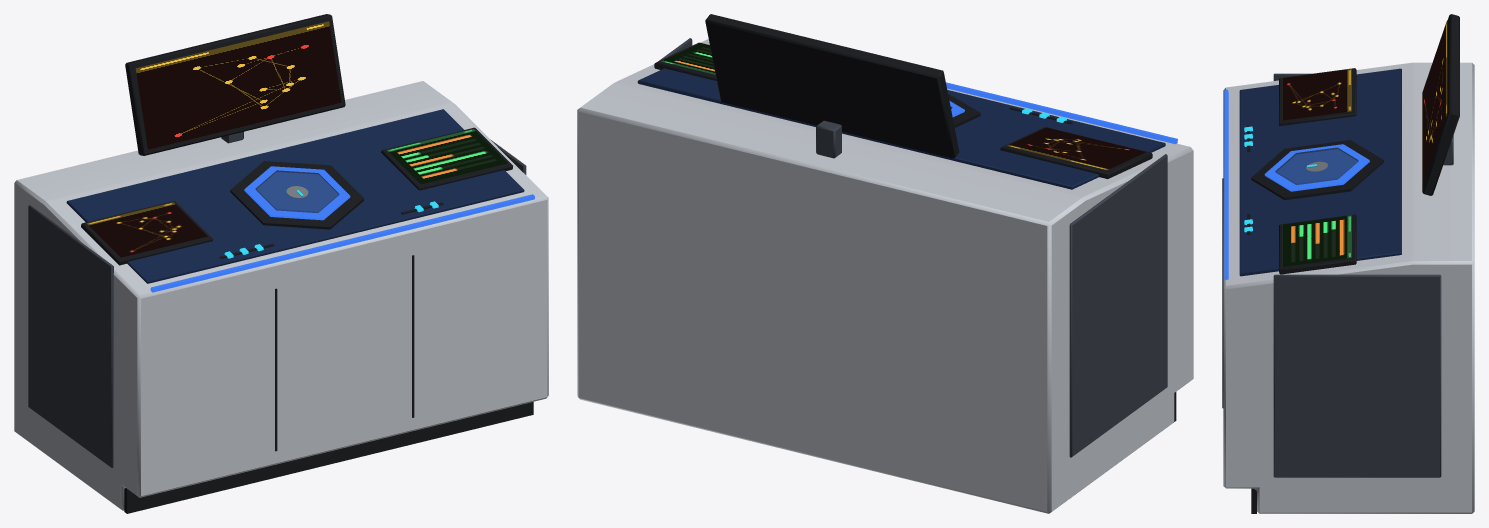
The model's file is console_shield_control.glb.
3 renders of one model, left to right at view 1: azimuth 30°, elevation 25°; view 2: azimuth 150°, elevation 25°; view 3: azimuth 270°, elevation 25°, orthographic. The views are drawn at different scales.
Parts seen in each view (by area): view 1: console_shield_control; view 2: console_shield_control; view 3: console_shield_control.
Boxes of the visible parts, box(x1,y1,x2,y2) form: console_shield_control: box(14, 14, 548, 513); console_shield_control: box(577, 14, 1193, 513); console_shield_control: box(1222, 14, 1474, 513).
Bounding box in the file's own units: 1.72 × 1.39 × 0.904.
Materials: 10 (2 with a texture image).
